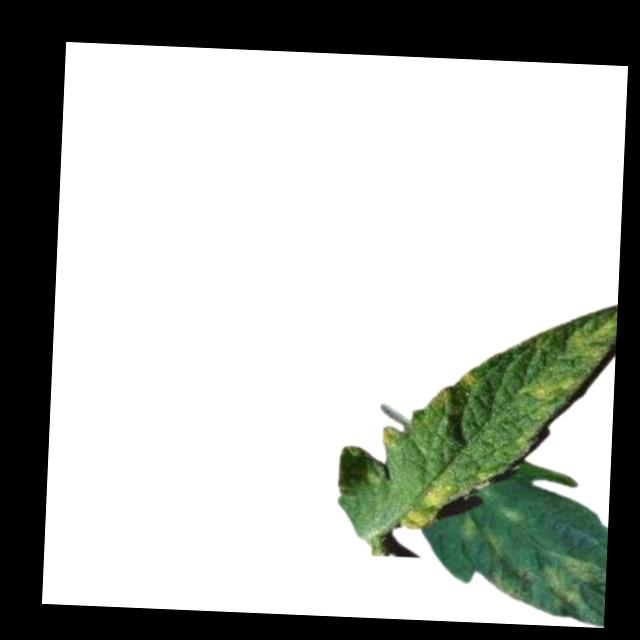Leaf_Mold: (537, 553, 606, 626), (396, 478, 452, 533), (524, 373, 586, 404), (378, 424, 399, 448), (460, 368, 482, 387)
